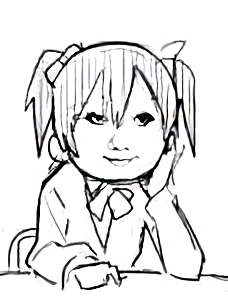dragon: (82, 110, 158, 168)
